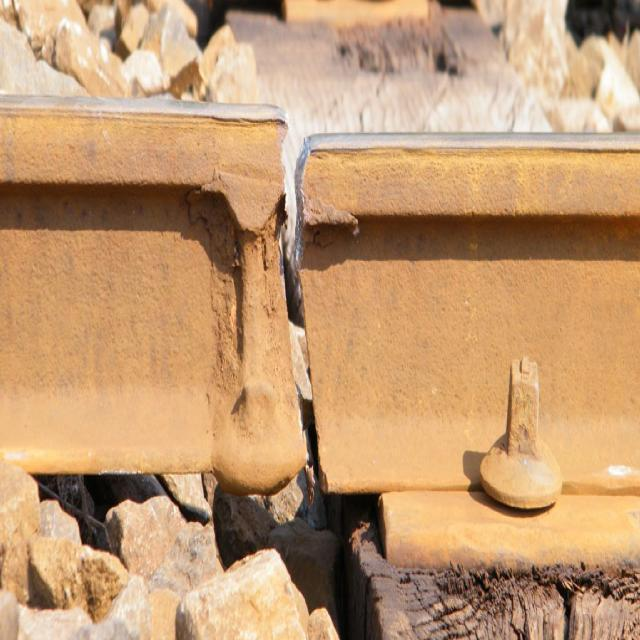broken_rail_high: (254, 102, 336, 497)
